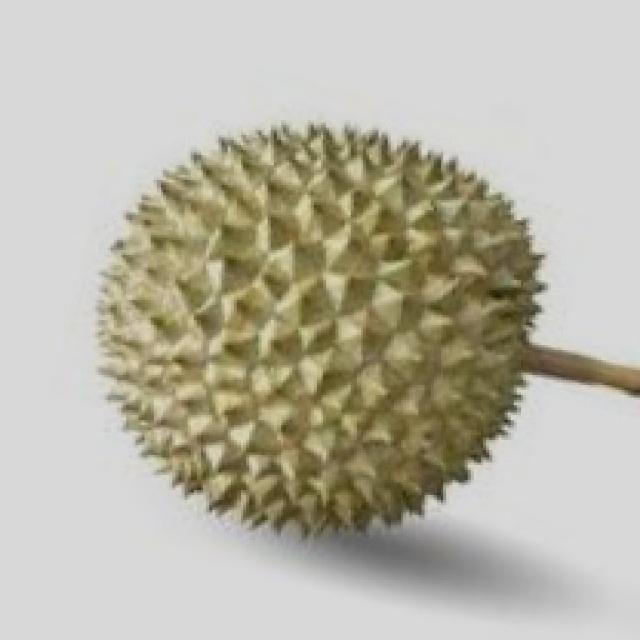fruit: (224, 212, 616, 602), (43, 233, 406, 605)
